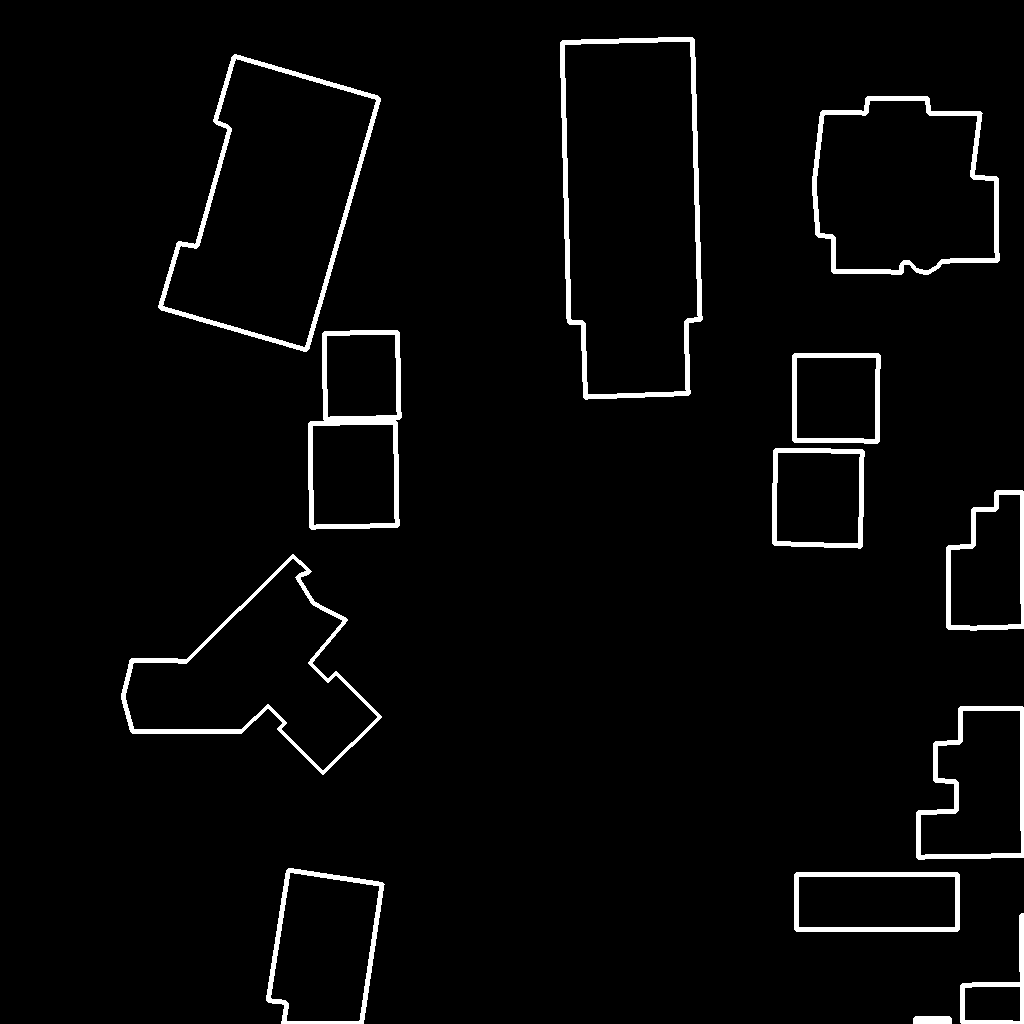building: (160, 56, 380, 351), (123, 556, 381, 774), (562, 39, 701, 398), (814, 98, 998, 274), (268, 870, 383, 1024), (918, 708, 1024, 858), (948, 492, 1024, 629), (310, 422, 398, 528), (796, 874, 959, 930), (774, 450, 863, 547), (794, 355, 879, 442), (962, 915, 1024, 1024), (324, 332, 400, 420), (915, 1018, 951, 1024)
